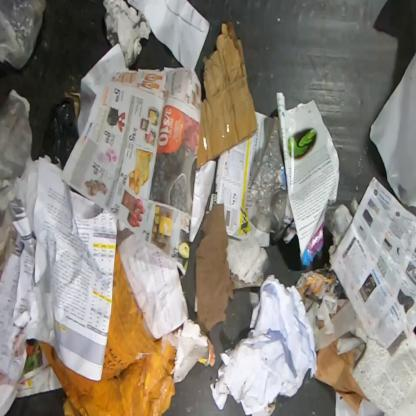cardboard: (36, 245, 178, 415), (196, 21, 258, 170), (102, 0, 152, 68)
soft_plastic: (246, 116, 288, 234), (0, 0, 48, 72), (42, 100, 80, 171)
